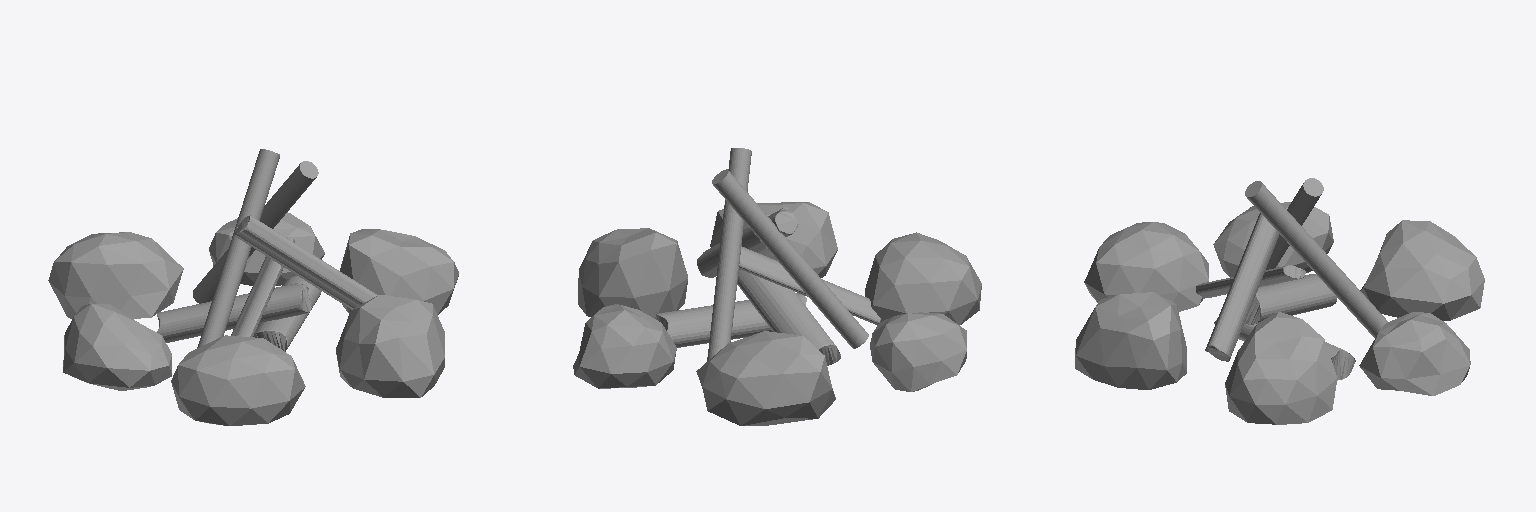
The model's file is campfire.obj.
The picture shows the model from 3 angles: view 1: azimuth 30°, elevation 25°; view 2: azimuth 150°, elevation 25°; view 3: azimuth 270°, elevation 25°; orthographic projection.
Parts seen in each view (by area): view 1: rock5, rock4, rock1, rock6, rock3, wood5, wood3, wood2, rock2, wood4, wood6, wood1; view 2: rock1, rock3, rock5, rock2, rock6, wood3, wood4, wood2, rock4, wood1, wood6, wood5; view 3: rock3, rock1, rock4, rock5, rock2, wood4, wood5, rock6, wood2, wood3, wood6, wood1.
Part boxes in pixels (bbox=[...]): rock5: bbox=[171, 335, 305, 425]; rock4: bbox=[336, 295, 444, 397]; rock1: bbox=[48, 232, 183, 318]; rock6: bbox=[63, 303, 171, 390]; rock3: bbox=[340, 229, 458, 314]; wood5: bbox=[234, 215, 377, 309]; wood3: bbox=[197, 149, 279, 347]; wood2: bbox=[156, 283, 311, 342]; rock2: bbox=[209, 212, 324, 285]; wood4: bbox=[193, 161, 318, 303]; wood6: bbox=[231, 237, 294, 336]; wood1: bbox=[253, 276, 321, 351]; rock1: bbox=[696, 331, 835, 425]; rock3: bbox=[578, 228, 687, 319]; rock5: bbox=[865, 232, 981, 324]; rock2: bbox=[573, 304, 676, 388]; rock6: bbox=[870, 312, 966, 391]; wood3: bbox=[712, 169, 868, 348]; wood4: bbox=[707, 148, 751, 361]; wood2: bbox=[737, 270, 840, 365]; rock4: bbox=[710, 202, 837, 277]; wood1: bbox=[656, 293, 806, 347]; wood6: bbox=[739, 246, 880, 325]; wood5: bbox=[697, 207, 798, 277]; rock3: bbox=[1225, 312, 1337, 424]; rock1: bbox=[1360, 220, 1484, 320]; rock4: bbox=[1075, 292, 1186, 389]; rock5: bbox=[1084, 222, 1208, 311]; rock2: bbox=[1359, 312, 1470, 395]; wood4: bbox=[1245, 181, 1387, 337]; wood5: bbox=[1205, 213, 1278, 361]; rock6: bbox=[1213, 202, 1333, 277]; wood2: bbox=[1244, 274, 1336, 324]; wood3: bbox=[1266, 178, 1323, 269]; wood6: bbox=[1196, 265, 1305, 298]; wood1: bbox=[1214, 318, 1355, 380].
Size of the model in its own units: 5.86 by 2.7 by 5.44.